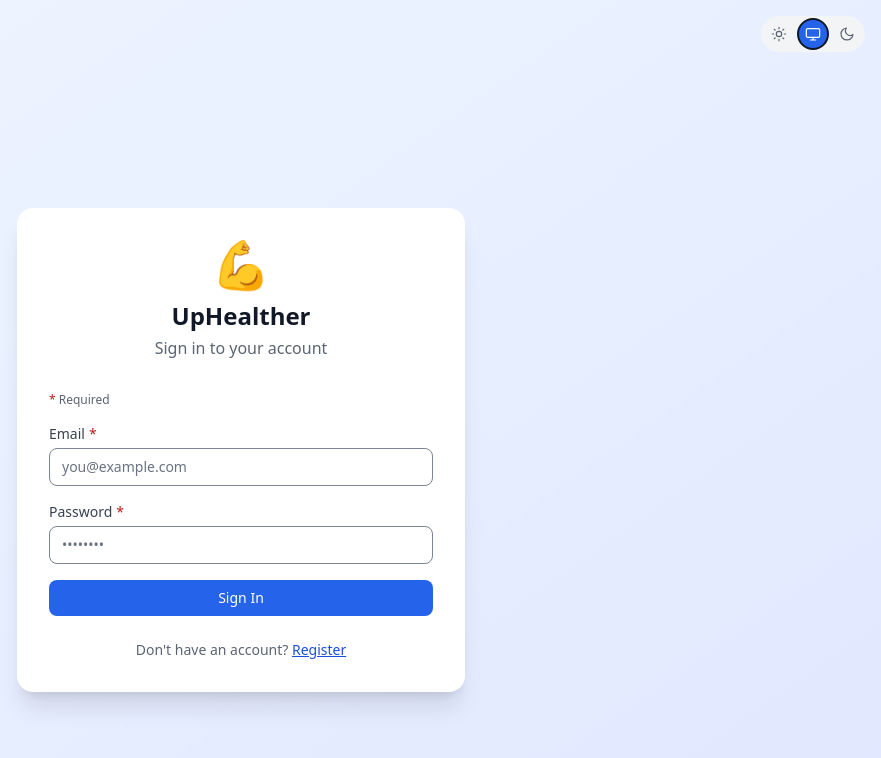
Test: LoginPage › GivenTheServerFails_WhenTheFormIsSubmitted_ThenTheUserIsNotToldTheirPasswordIsWrong
Type "someone@example.com" into the field labelled "Email".
click(241, 467); type("someone@example.com")  # box [49,448,433,486]
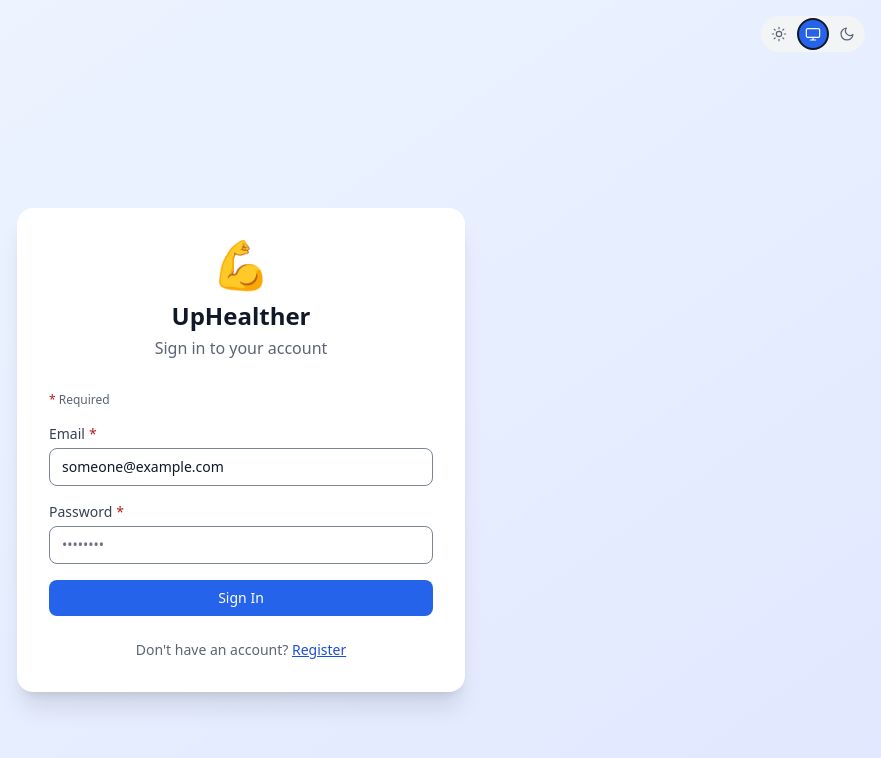
Type "s3cret!" into the password field labelled "Password".
click(241, 545); type("s3cret!")  # box [49,526,433,564]
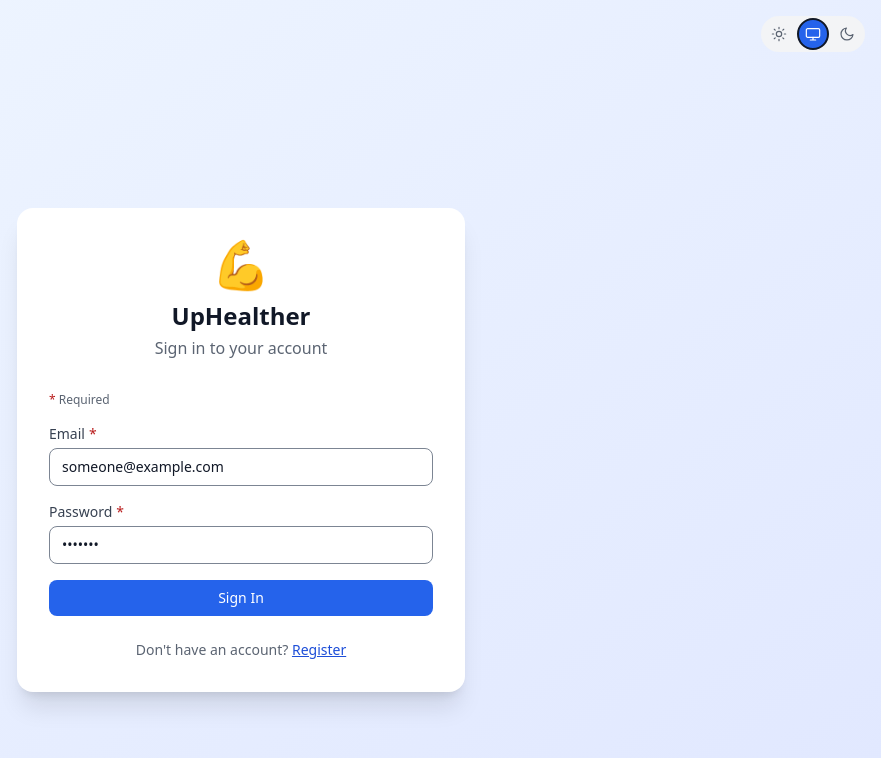
Submit the form from the button "Sign In", box [49,580,433,616]
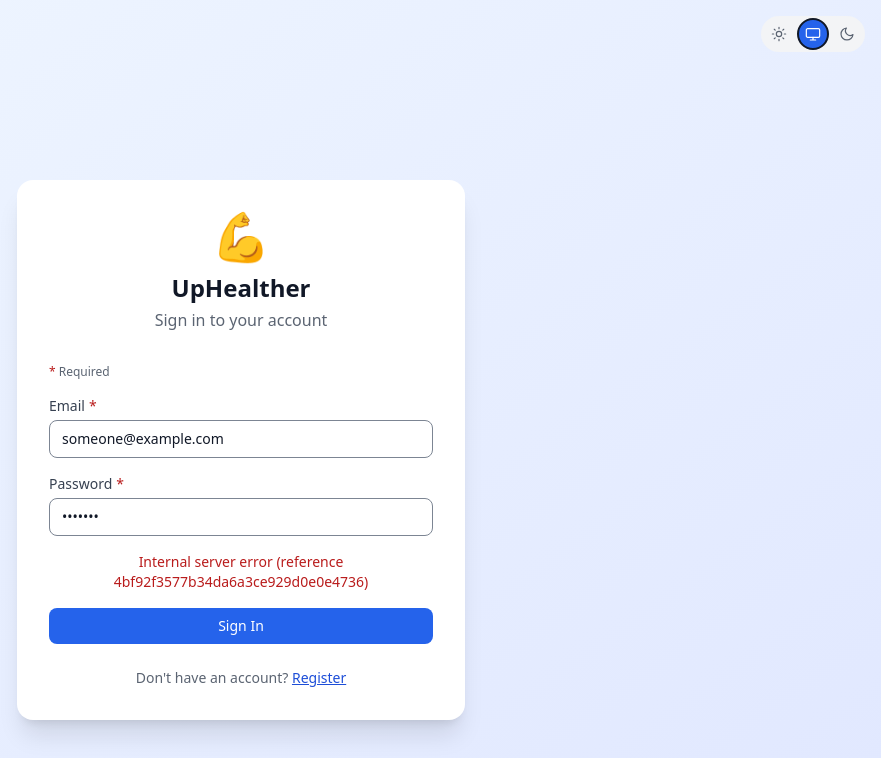
Result: the text "Internal server error (reference 4bf92f3577b34da6a3ce929d0e0e4736)" is shown at [114,552,368,591]
